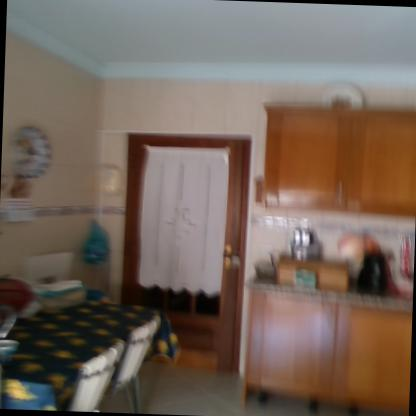closed: (112, 122, 260, 382)
